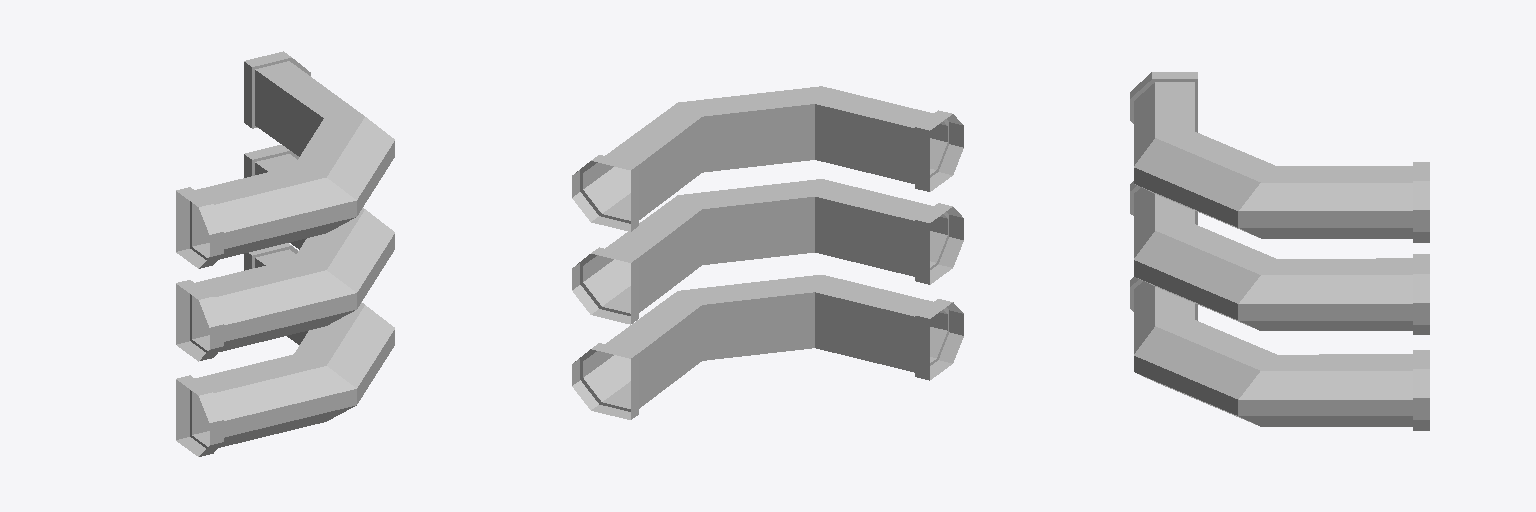
File: 3pipes_Low.obj
3 renders of one model, left to right at view 1: azimuth 30°, elevation 25°; view 2: azimuth 150°, elevation 25°; view 3: azimuth 270°, elevation 25°, orthographic.
Parts seen in each view (by area): view 1: Low; view 2: Low; view 3: Low.
Boxes of the visible parts, x1,y1,x2,y2 form: Low: [176, 51, 394, 456]; Low: [572, 86, 963, 419]; Low: [1130, 72, 1429, 430].
Bounding box in the file's own units: 1.65 × 1.62 × 1.76.